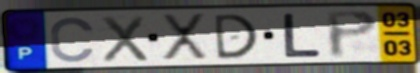C: (49, 15, 99, 64)
D: (211, 12, 261, 61)
L: (281, 12, 324, 59)
P: (323, 8, 380, 60)
X: (99, 14, 152, 64), (159, 12, 210, 63)
